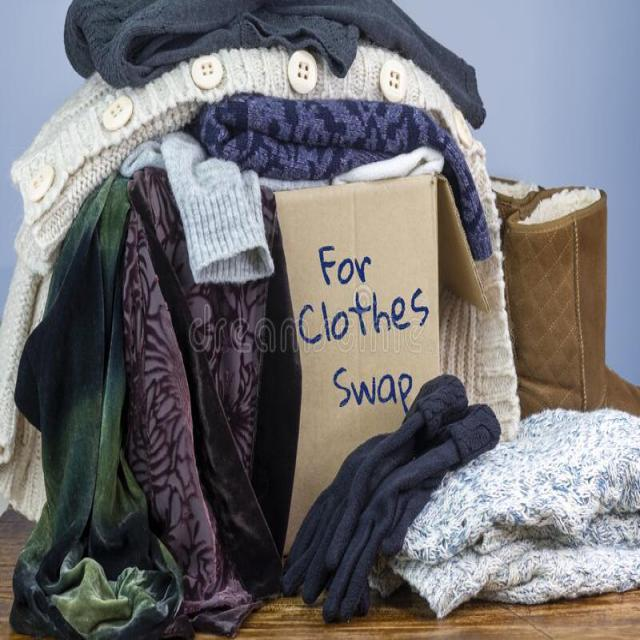clothes: (2, 16, 302, 638), (59, 0, 514, 259), (300, 365, 640, 638)
